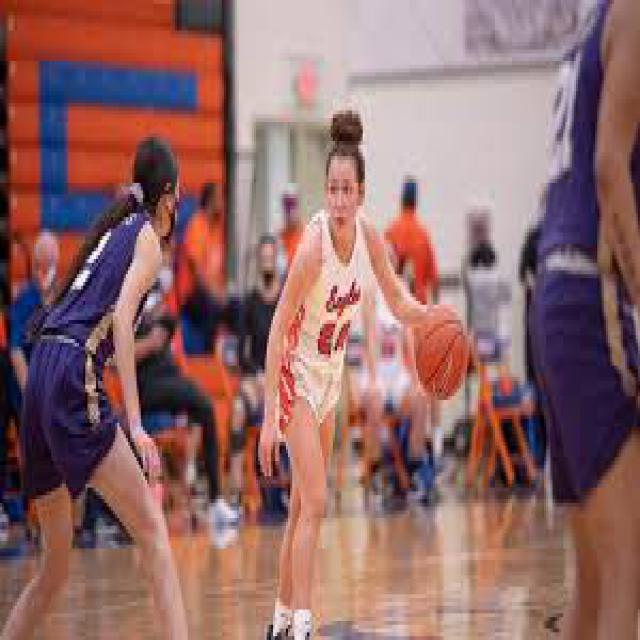basketball: (412, 305, 469, 400)
